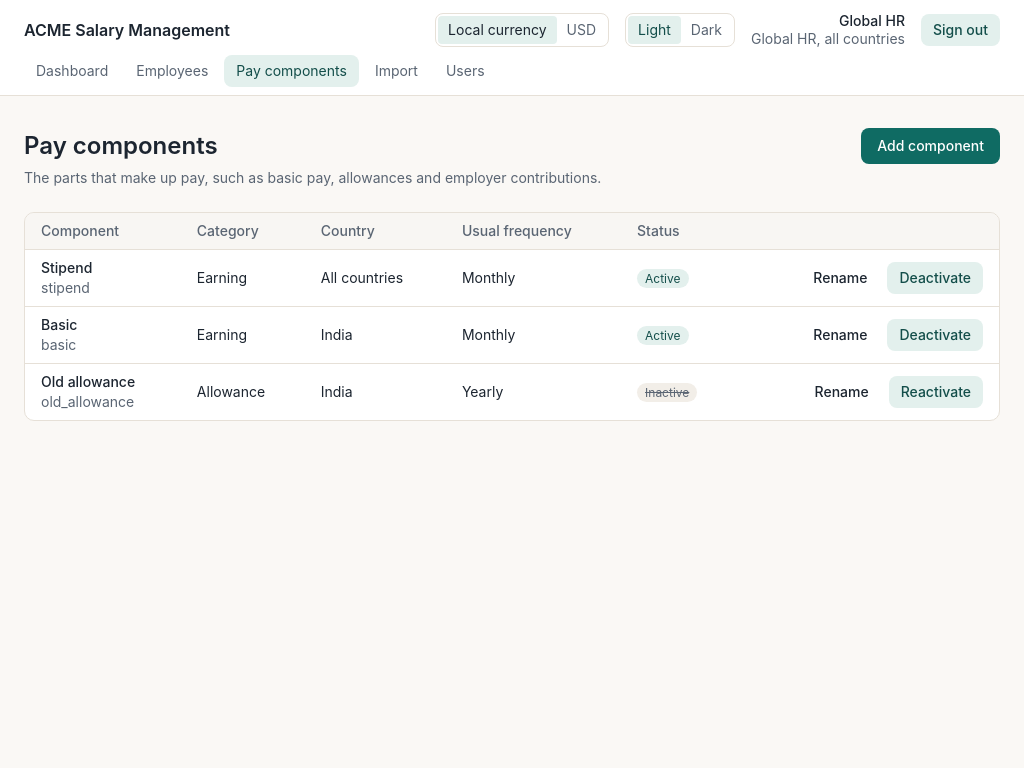
Test: PayComponentsPage › renames a component
The width and height of the screenshot is (1024, 768).
Click the 2nd button "Rename" at [840, 335], box left=801, top=319, right=879, bottom=351
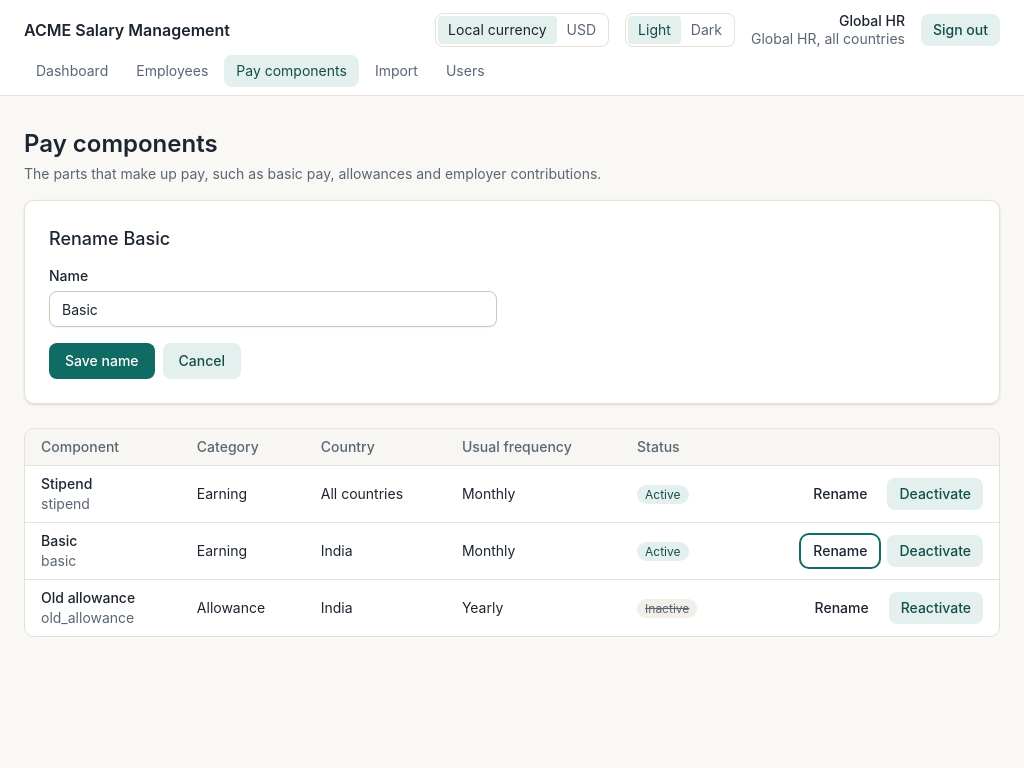
Result: the field labelled "Name" holds "Basic"
Replace the text in the field labelled "Name" with "Basic salary" at [273, 309], box left=49, top=291, right=497, bottom=327
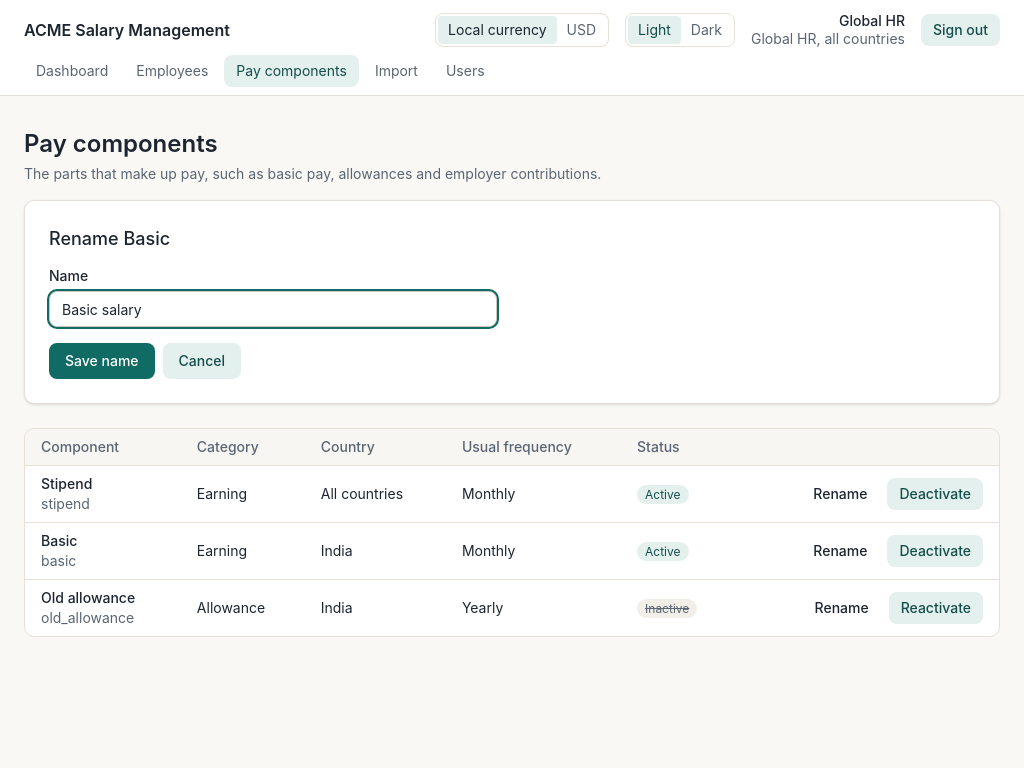
Click the button "Save name" at [102, 361], box left=49, top=343, right=154, bottom=379
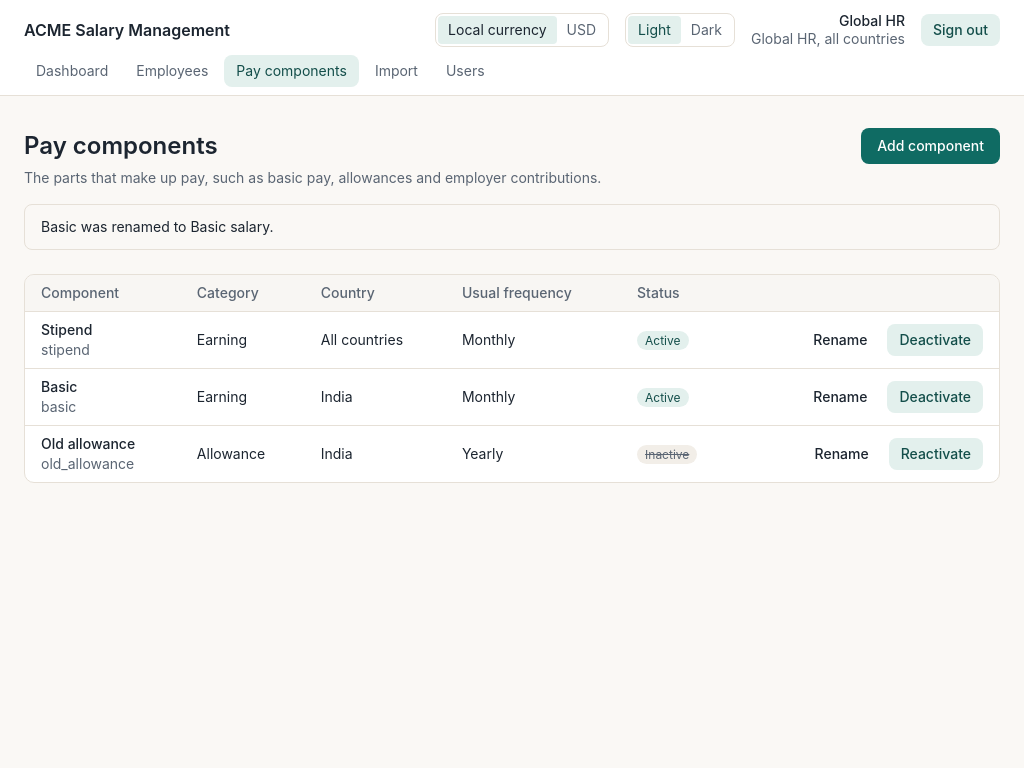
Result: the text "Basic was renamed to Basic salary." is shown at left=24, top=204, right=1000, bottom=250
